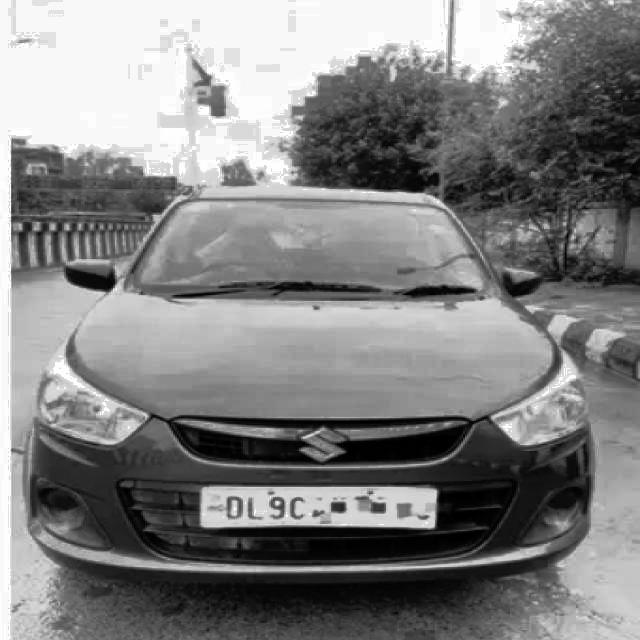Car: (55, 192, 613, 587)
